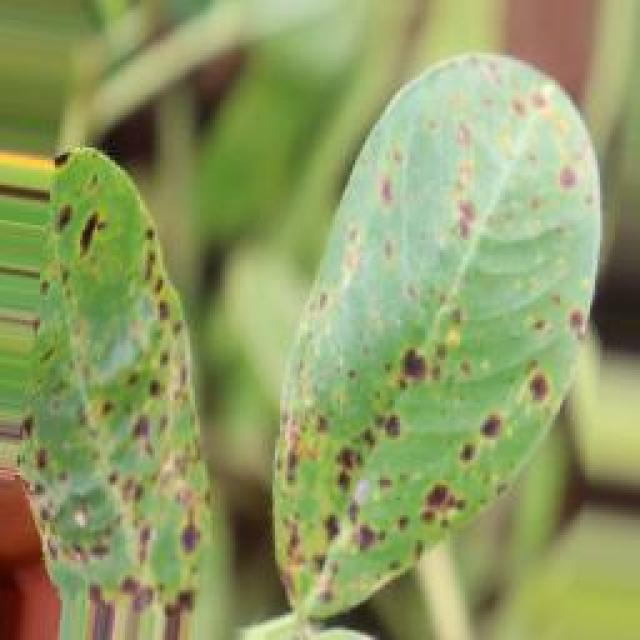Yellowish: (254, 61, 596, 601), (0, 131, 235, 585)
